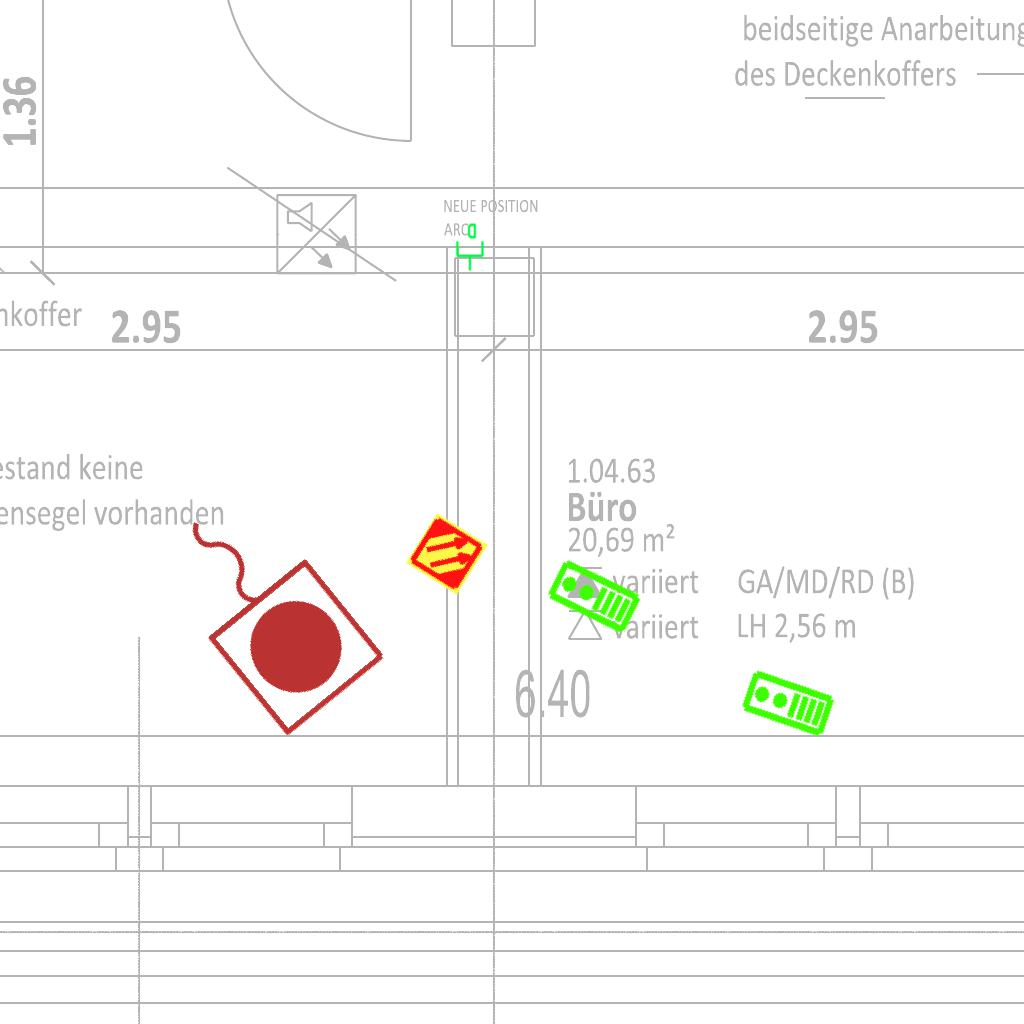ASR_Ansaugrauchmelder: (404, 511, 490, 597)
Datenanschluss_einfach: (452, 222, 486, 272)
Gegensprechanlage_mit_Video: (543, 556, 644, 638), (738, 667, 837, 741)
Zugtaster: (133, 466, 399, 748)
